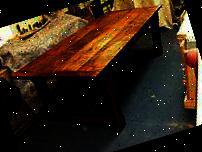Mesa: (2, 0, 187, 150)
